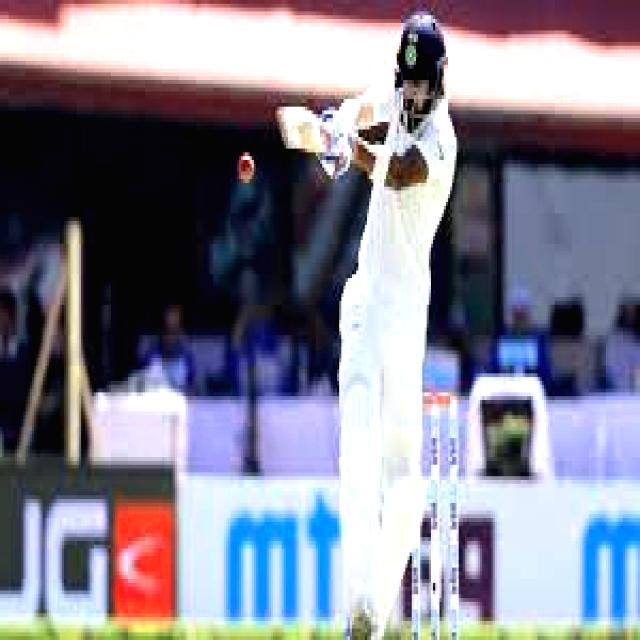toe: (268, 98, 294, 156)
